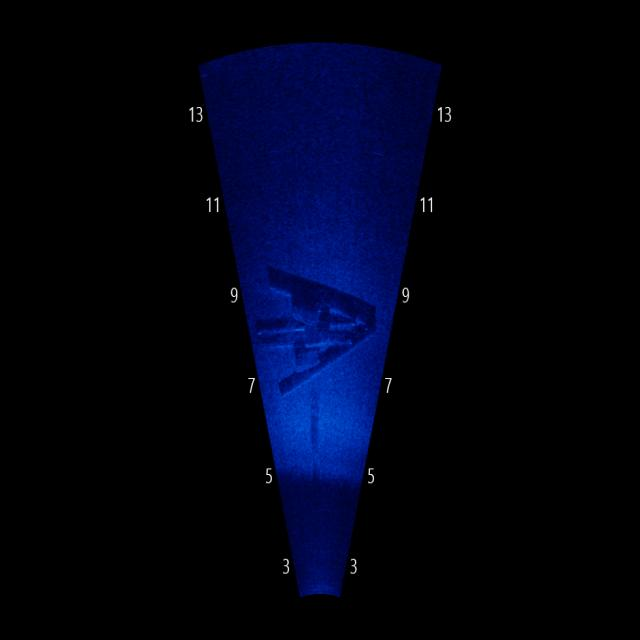triangle: (250, 265, 390, 392)
